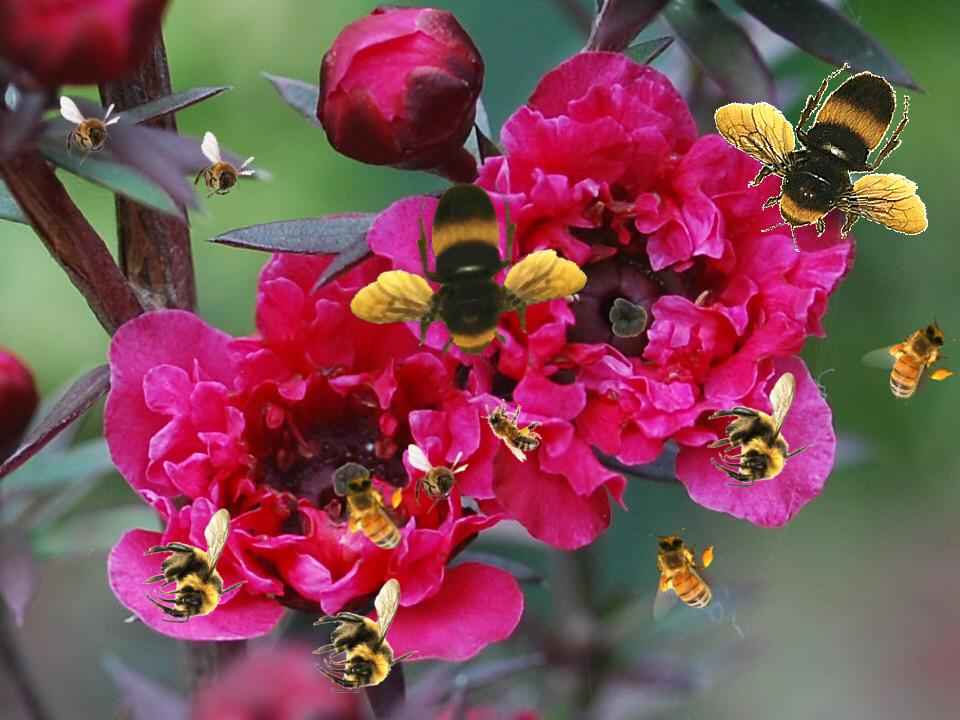Bee: (316, 142, 606, 423), (706, 56, 936, 259), (312, 578, 419, 693), (142, 508, 249, 623), (707, 372, 814, 487), (856, 309, 960, 414), (181, 130, 264, 218), (338, 469, 406, 562), (649, 528, 717, 621), (471, 388, 551, 465), (60, 96, 121, 166), (408, 444, 469, 514)
